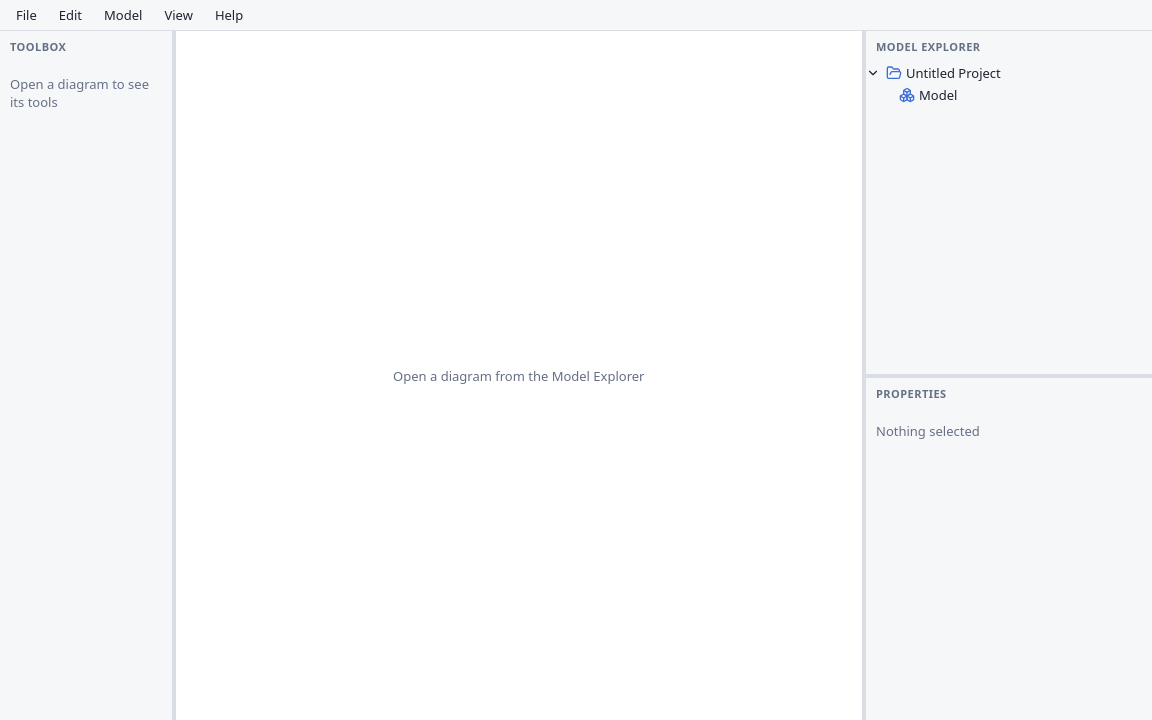
Shell › shows the About dialog from the Help menu
Click the menu item "Help". click: (229,15)
box: x1=205 y1=2 x2=253 y2=28
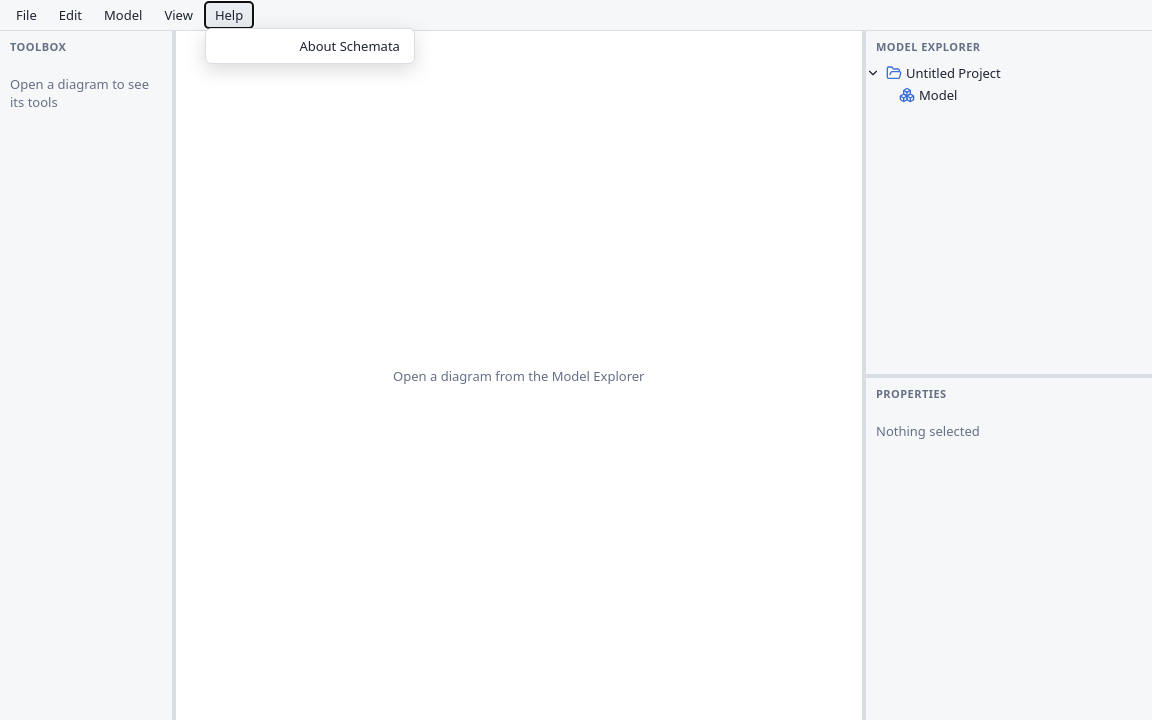
Click the menu item "About Schemata". click: (310,46)
box: x1=210 y1=33 x2=410 y2=59
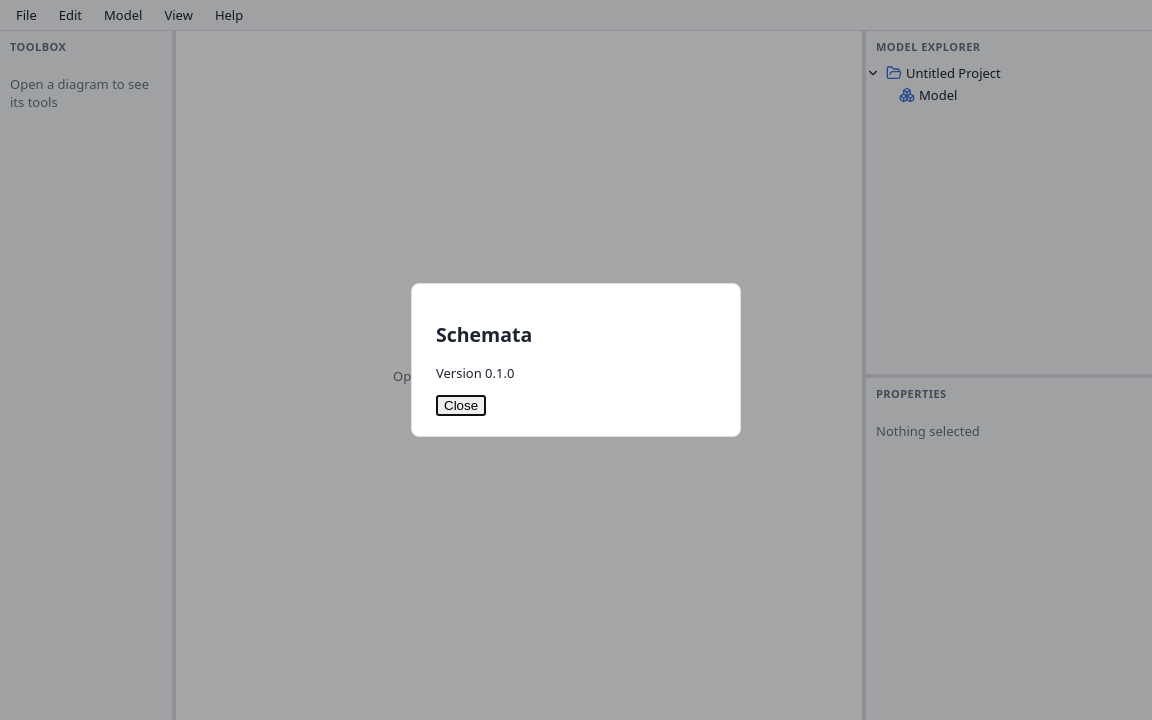
Expected: the dialog "Schemata" is shown, x1=411 y1=283 x2=741 y2=437
